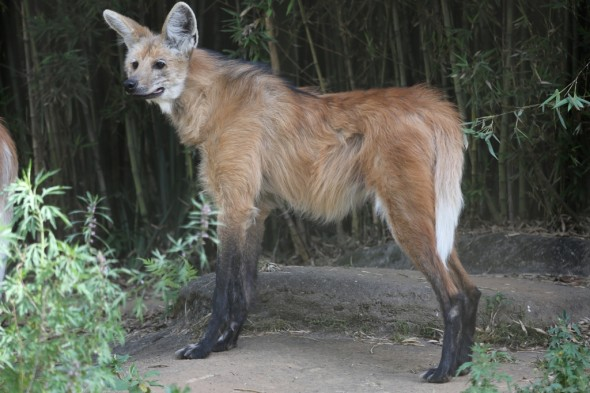LoboGuara: (76, 5, 496, 383)
